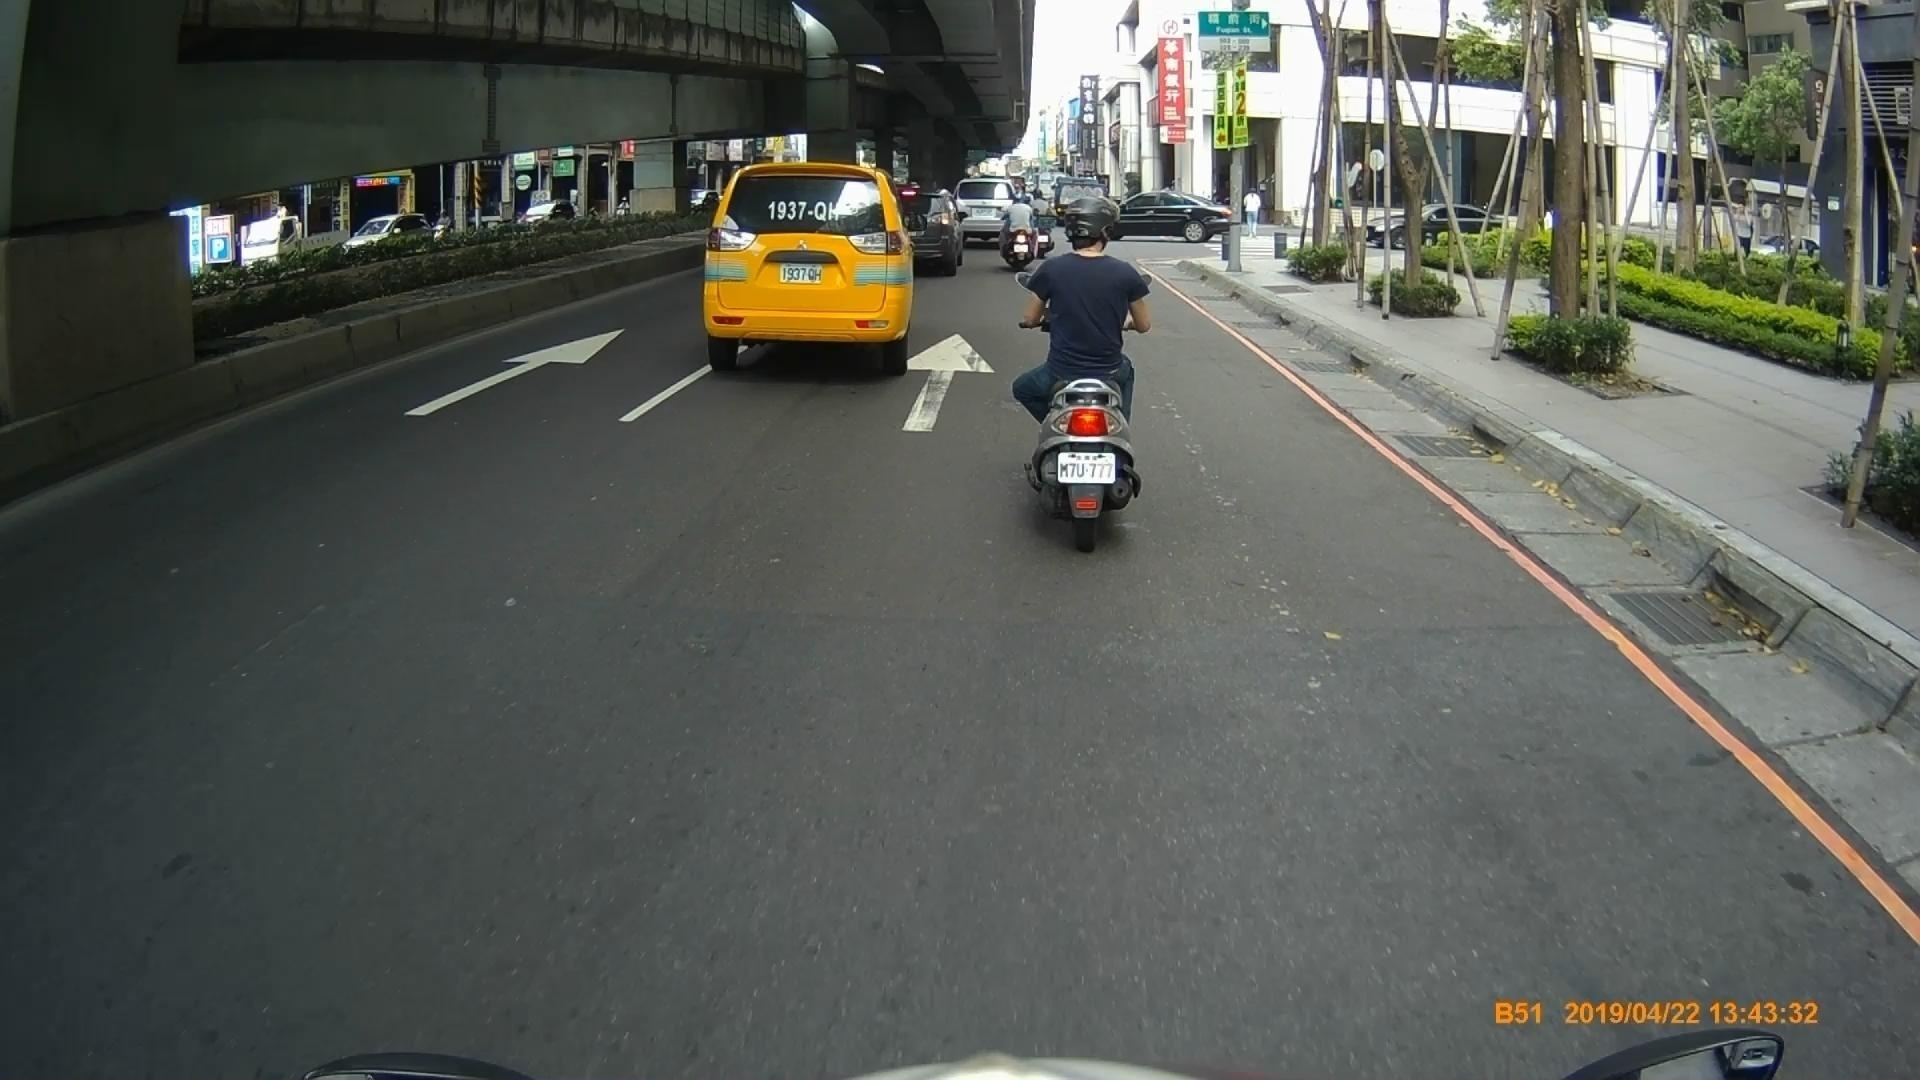License_plate: (1057, 448, 1119, 485), (778, 262, 825, 285)
